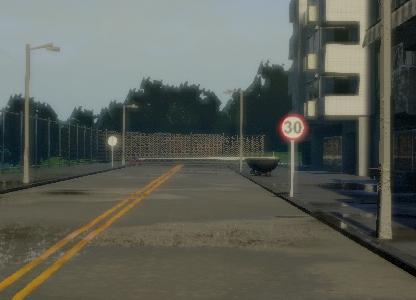Speed_30: (268, 109, 299, 140)
